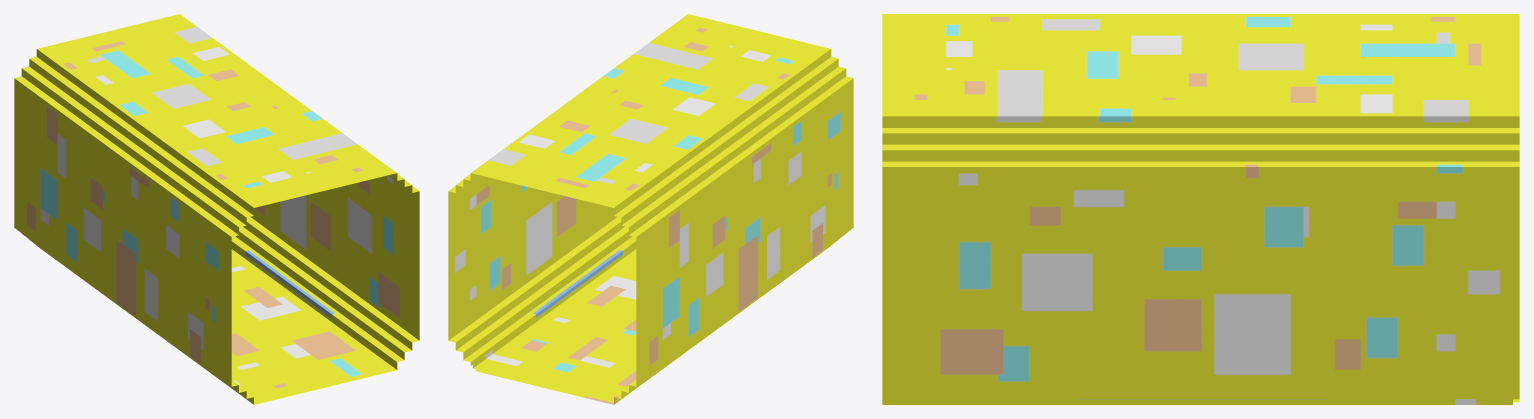
Rendered from starBridge_Outside.fbx.
The picture shows the model from 3 angles, left to right: view 1: azimuth 30°, elevation 25°; view 2: azimuth 150°, elevation 25°; view 3: azimuth 270°, elevation 25°; orthographic projection. The views are drawn at different scales.
Visible parts, largest first — view 1: starLine2; view 2: starLine2; view 3: starLine2.
Part boxes in pixels (left/top/right/bottom): starLine2: left=14, top=14, right=419, bottom=404; starLine2: left=448, top=14, right=853, bottom=404; starLine2: left=882, top=14, right=1519, bottom=404.
Bounding box in the file's own units: 500 × 500 × 1000.
